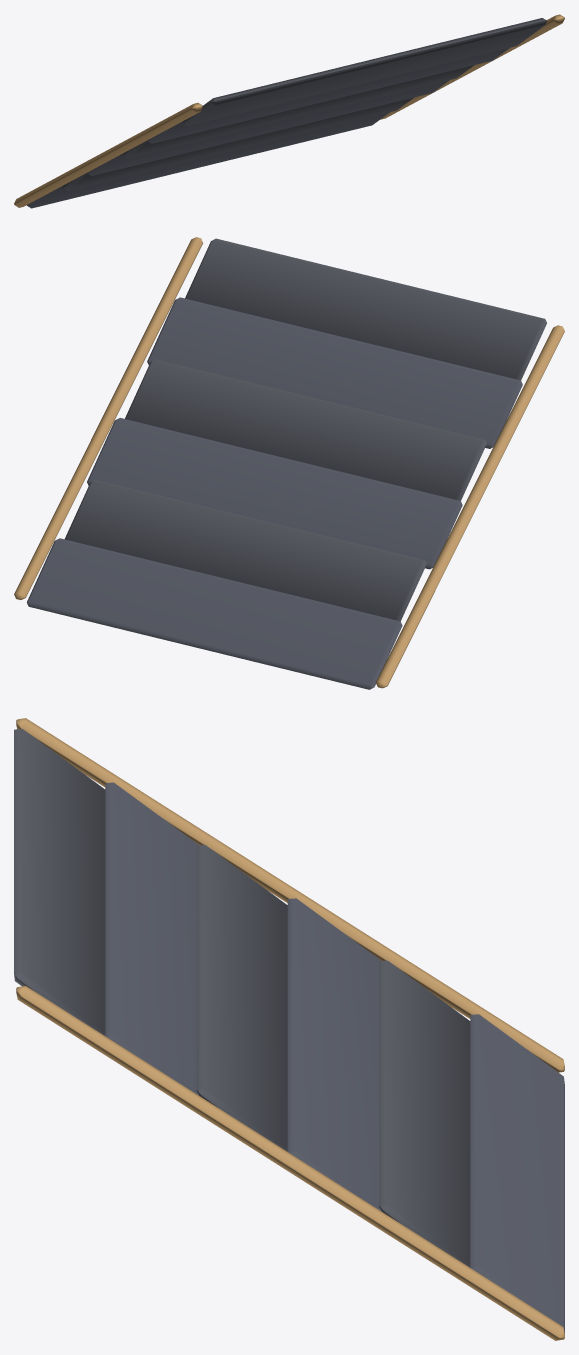
The model's file is roof_patch.glb.
3 views of the same model, one above another, from view 1: azimuth 30°, elevation 25°; view 2: azimuth 150°, elevation 25°; view 3: azimuth 270°, elevation 25° (orthographic). The views are drawn at different scales.
Parts seen in each view (by area): view 1: Patch; view 2: Patch; view 3: Patch.
Boxes of the visible parts, bbox=[...] form: Patch: bbox=[14, 14, 564, 208]; Patch: bbox=[14, 237, 564, 689]; Patch: bbox=[14, 718, 564, 1340].
Bounding box in the file's own units: 3.22 × 1.96 × 2.71.
1 material, 1 textured.
